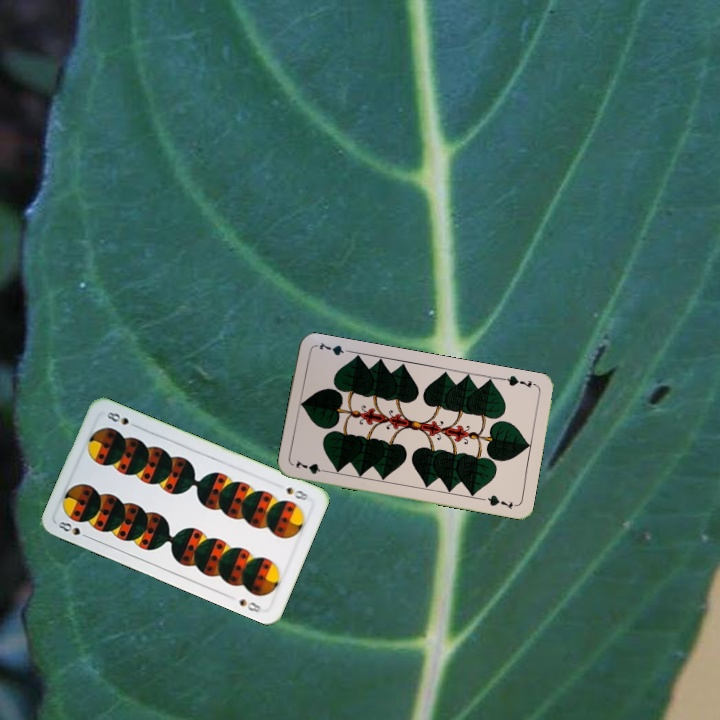G7: (291, 457, 332, 477), (498, 371, 539, 391)
S8: (54, 517, 93, 541), (282, 483, 311, 503)
